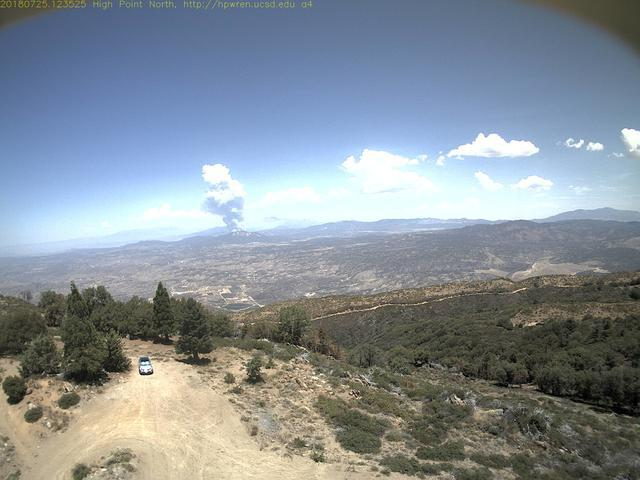smoke: (197, 161, 252, 240)
